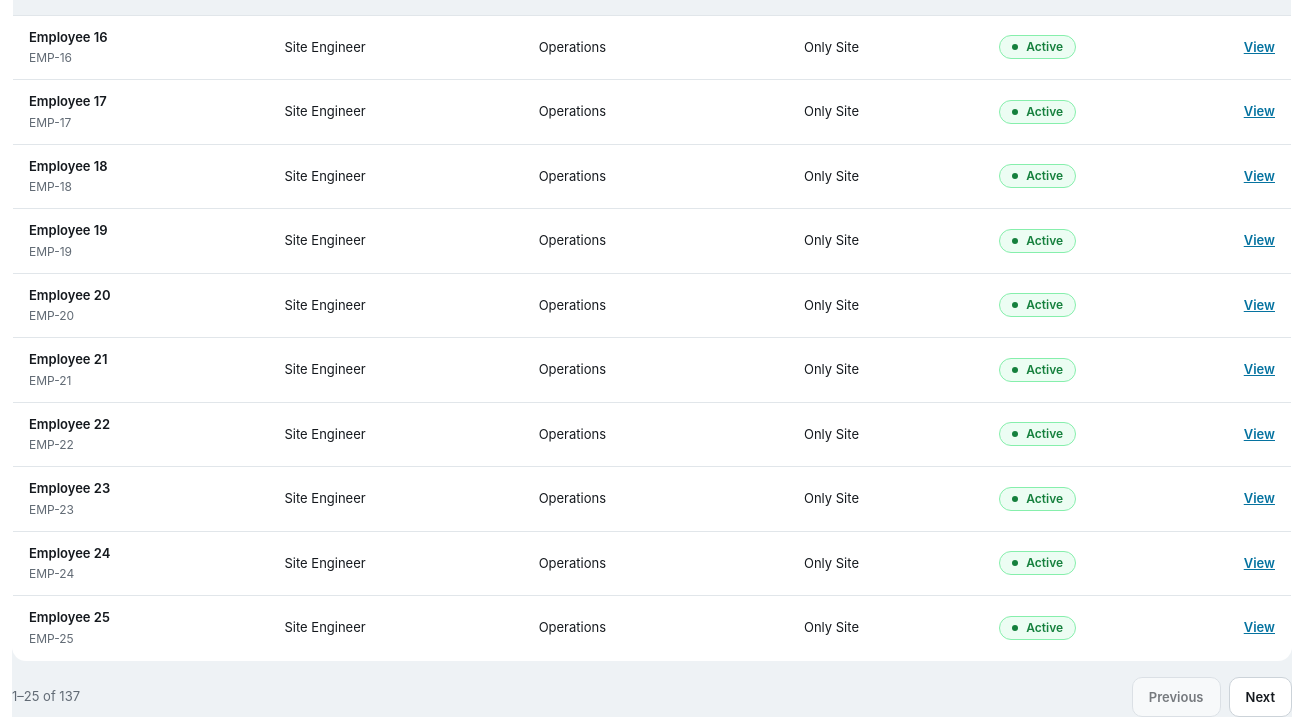
Test: EmployeesListPage pagination (ADV-PRE-02) › Previous is disabled on page 1 and Next is disabled on the last page
(page scrolled)
Expected: the button "Previous" is disabled, [1132,676,1221,716]
Step 1. Click the button "Next" → (1260, 696), box [1228,676,1292,716]
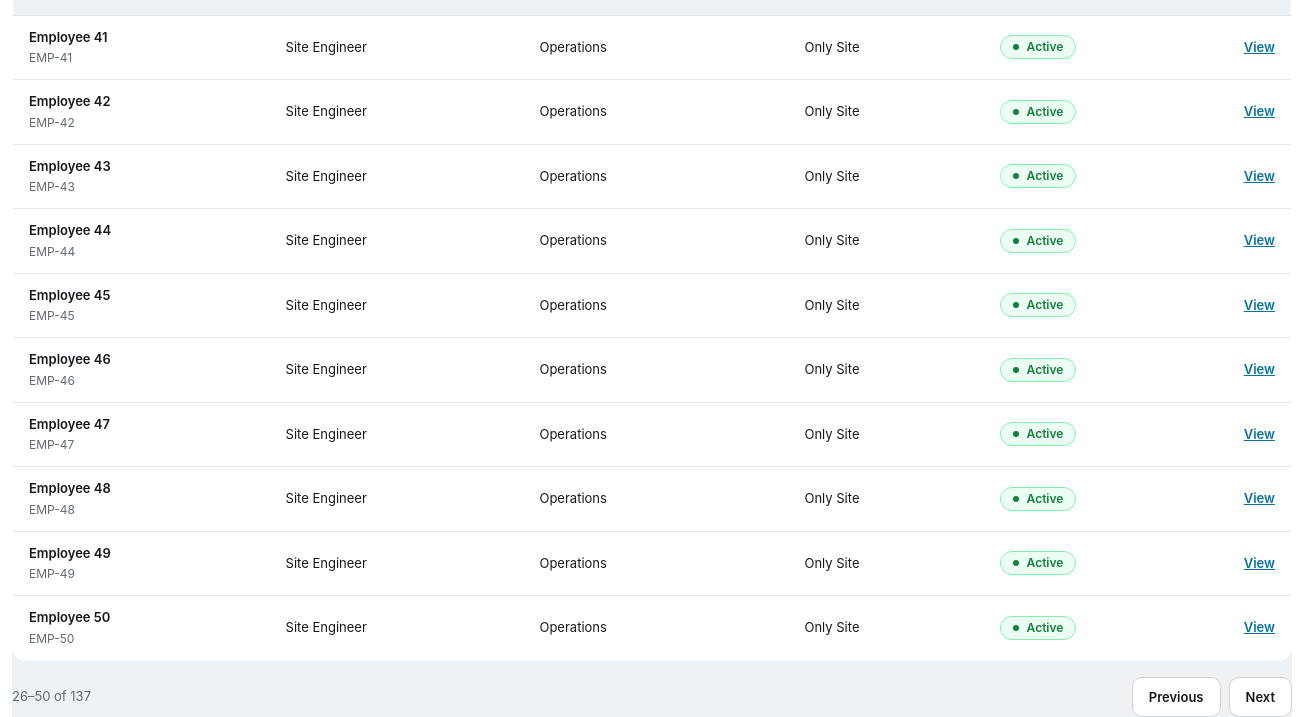
Expected: the text "26–50 of 137" is shown, [12,687,91,706]
Step 2. Click the button "Next" → (1260, 696), box [1228,676,1292,716]
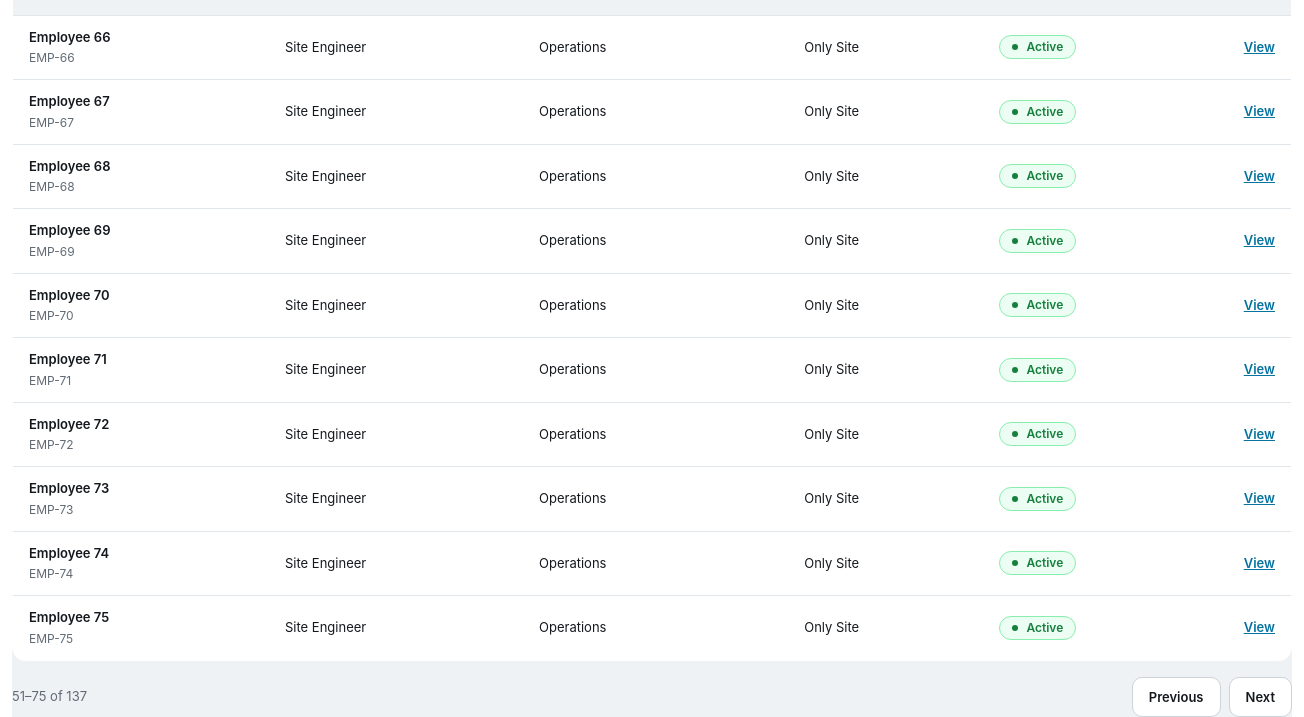
Expected: the text "51–75 of 137" is shown, [12,687,87,706]
Step 3. Click the button "Next" → (1260, 696), box [1228,676,1292,716]
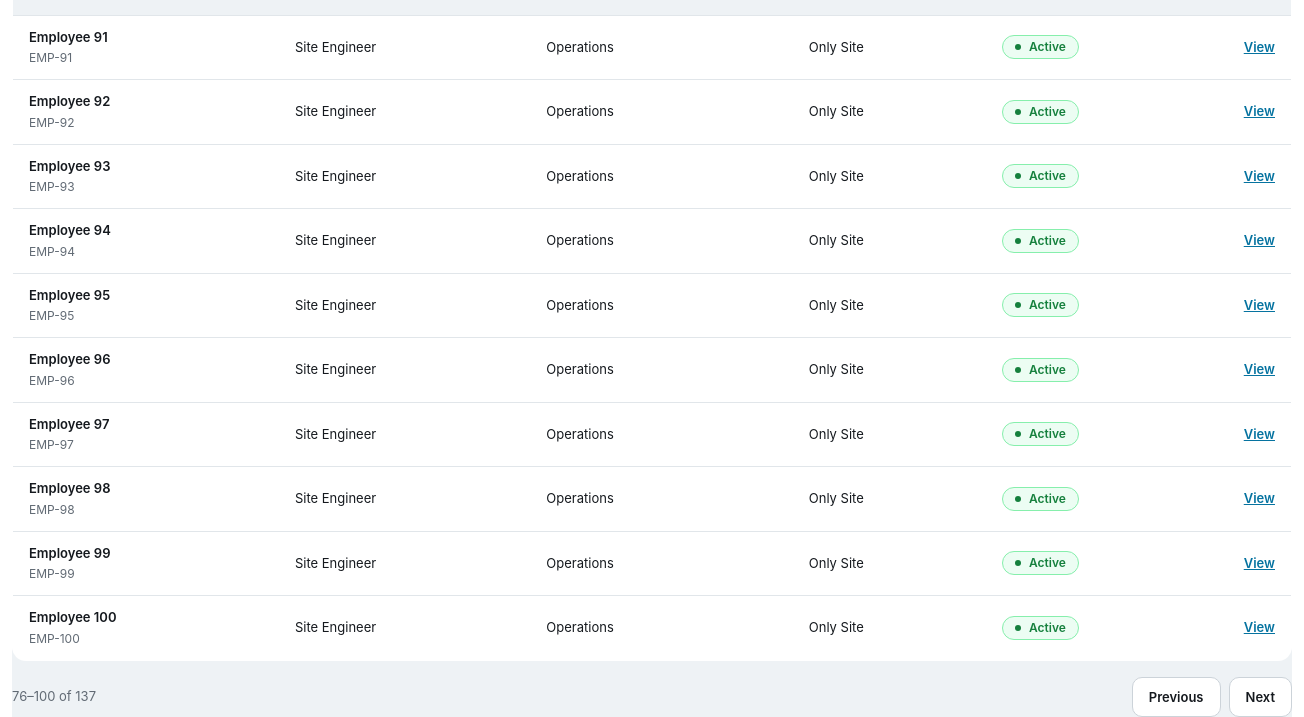
Expected: the text "76–100 of 137" is shown, [12,687,96,706]
Step 4. Click the button "Next" → (1260, 696), box [1228,676,1292,716]
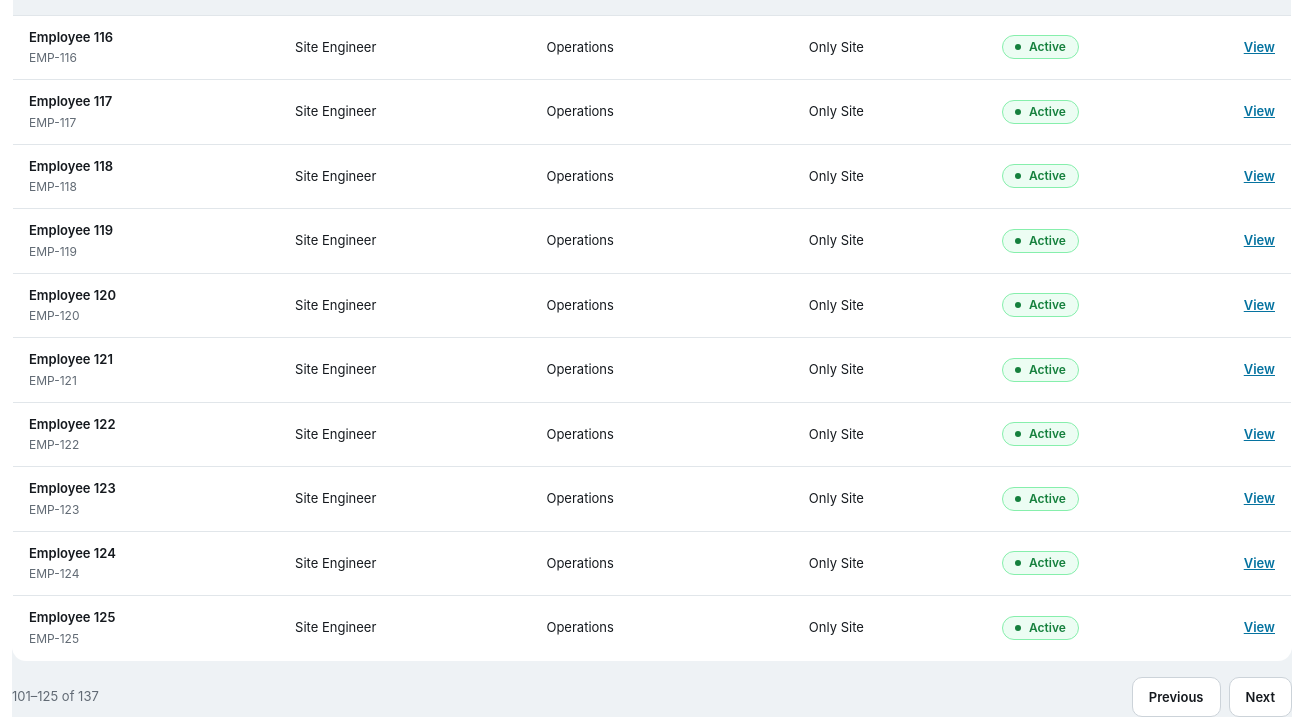
Expected: the text "101–125 of 137" is shown, [12,687,99,706]
Step 5. Click the button "Next" → (1260, 696), box [1228,676,1292,716]
(page scrolled)
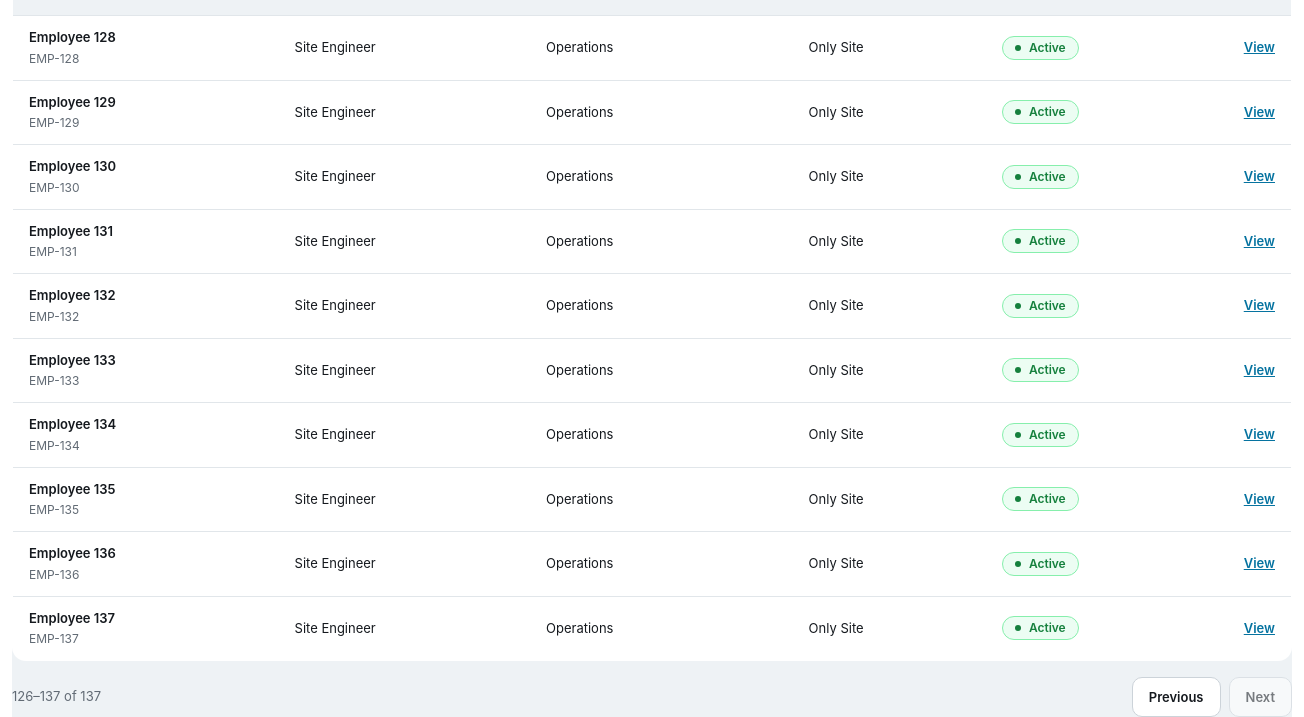
Expected: the text "126–137 of 137" is shown, [12,687,101,707]
Expected: the button "Previous" is enabled, [1132,677,1221,716]
Expected: the button "Next" is disabled, [1228,677,1292,716]
